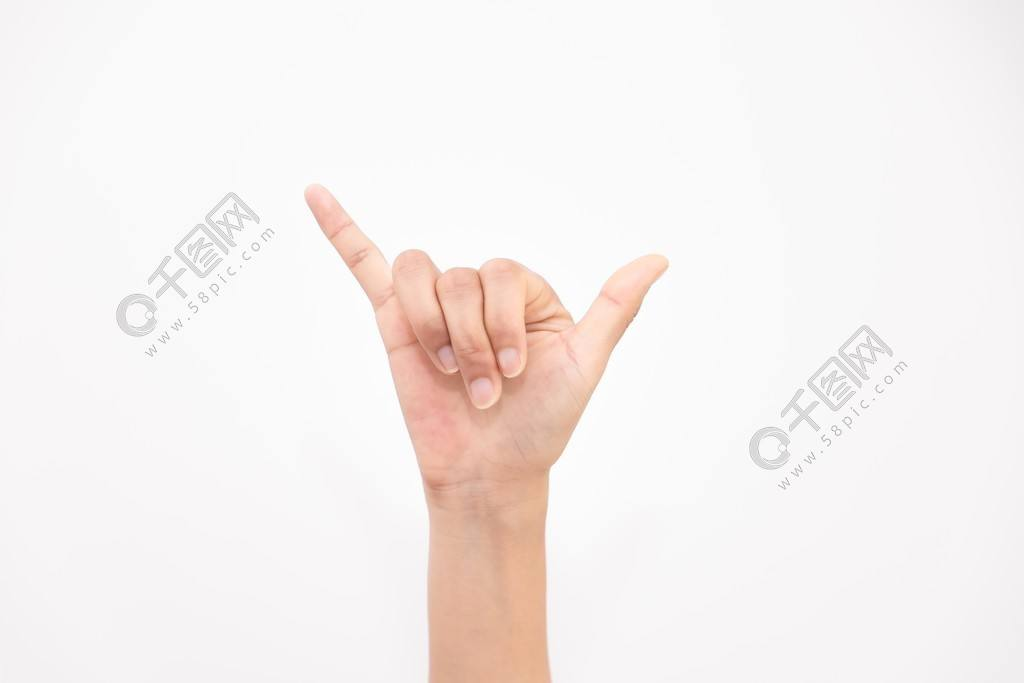clockwise: (302, 180, 678, 497)
